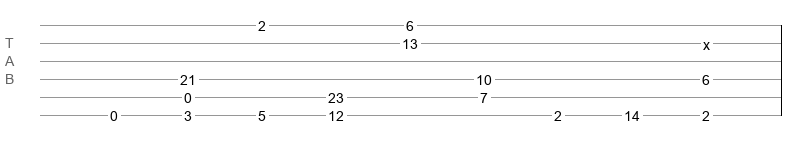0: (110, 108, 118, 118), (184, 90, 192, 100)
10: (476, 72, 492, 82)
12: (328, 108, 344, 118)
13: (402, 36, 418, 46)
14: (624, 108, 640, 118)
2: (258, 18, 266, 28), (554, 108, 562, 118), (702, 108, 710, 118)
21: (180, 72, 196, 82)
23: (328, 90, 344, 100)
3: (184, 108, 192, 118)
5: (258, 108, 266, 118)
6: (406, 18, 414, 28), (702, 72, 710, 82)
7: (480, 90, 488, 100)
x: (703, 37, 710, 45)
